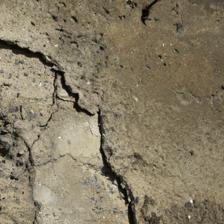Crack: (58, 0, 140, 103), (21, 15, 80, 125)
